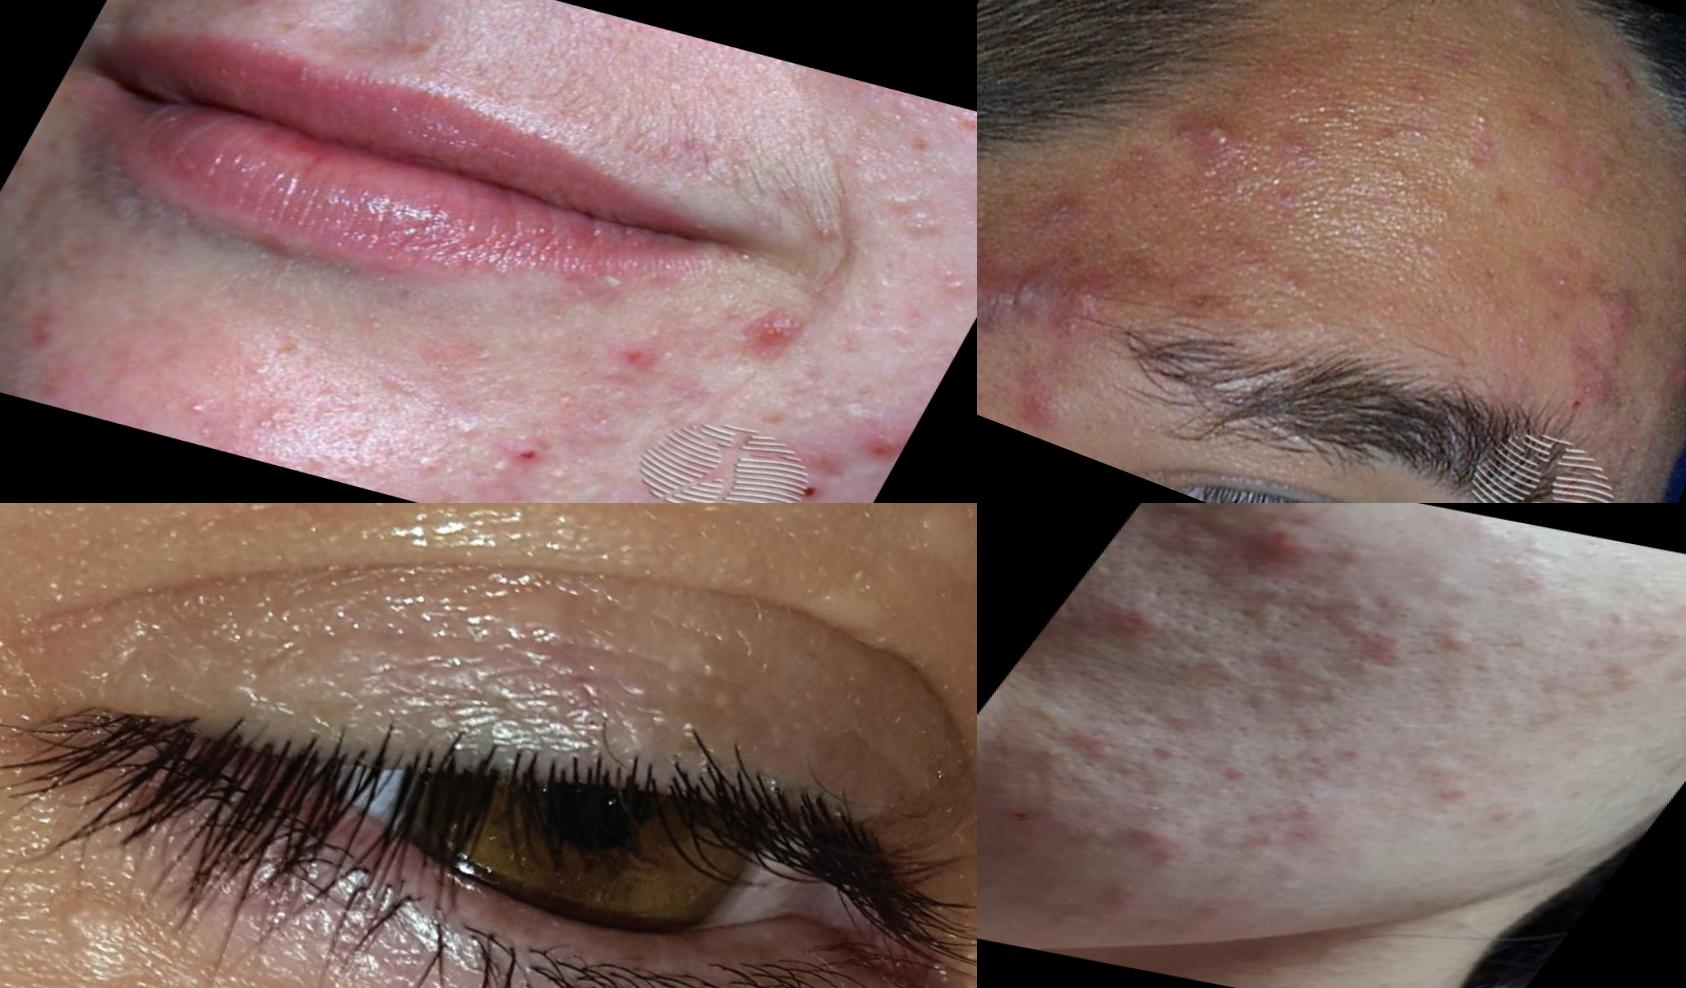blackhead: (1282, 585, 1343, 614), (1136, 733, 1193, 763), (1371, 605, 1432, 633), (1329, 594, 1380, 625)
cystic: (998, 258, 1072, 332), (978, 271, 1016, 345)
papular: (1516, 126, 1655, 241), (712, 299, 837, 386), (981, 361, 1080, 441), (1209, 510, 1349, 567), (1560, 348, 1645, 427), (1487, 690, 1601, 737), (1578, 276, 1652, 348), (578, 322, 673, 370), (1409, 617, 1500, 662), (1103, 810, 1190, 857), (775, 438, 855, 478), (1100, 599, 1177, 637), (780, 478, 877, 505), (854, 418, 908, 463), (1642, 346, 1686, 398), (1588, 660, 1655, 690), (1274, 797, 1338, 829), (1319, 739, 1381, 768), (1270, 817, 1327, 849), (1022, 740, 1082, 768), (1421, 780, 1479, 808), (1212, 761, 1263, 786), (1263, 874, 1311, 897)
purulent: (1175, 94, 1253, 179)
syringoma: (1, 817, 511, 988), (887, 505, 978, 609)
whitehead: (1217, 649, 1365, 730), (844, 182, 970, 261), (1459, 530, 1593, 592), (1452, 80, 1512, 148), (506, 459, 586, 505), (433, 405, 506, 454), (390, 443, 460, 485), (919, 269, 977, 319), (154, 393, 222, 429), (479, 449, 531, 488), (593, 382, 635, 416), (1431, 809, 1481, 837), (439, 483, 503, 505), (961, 132, 978, 182)
